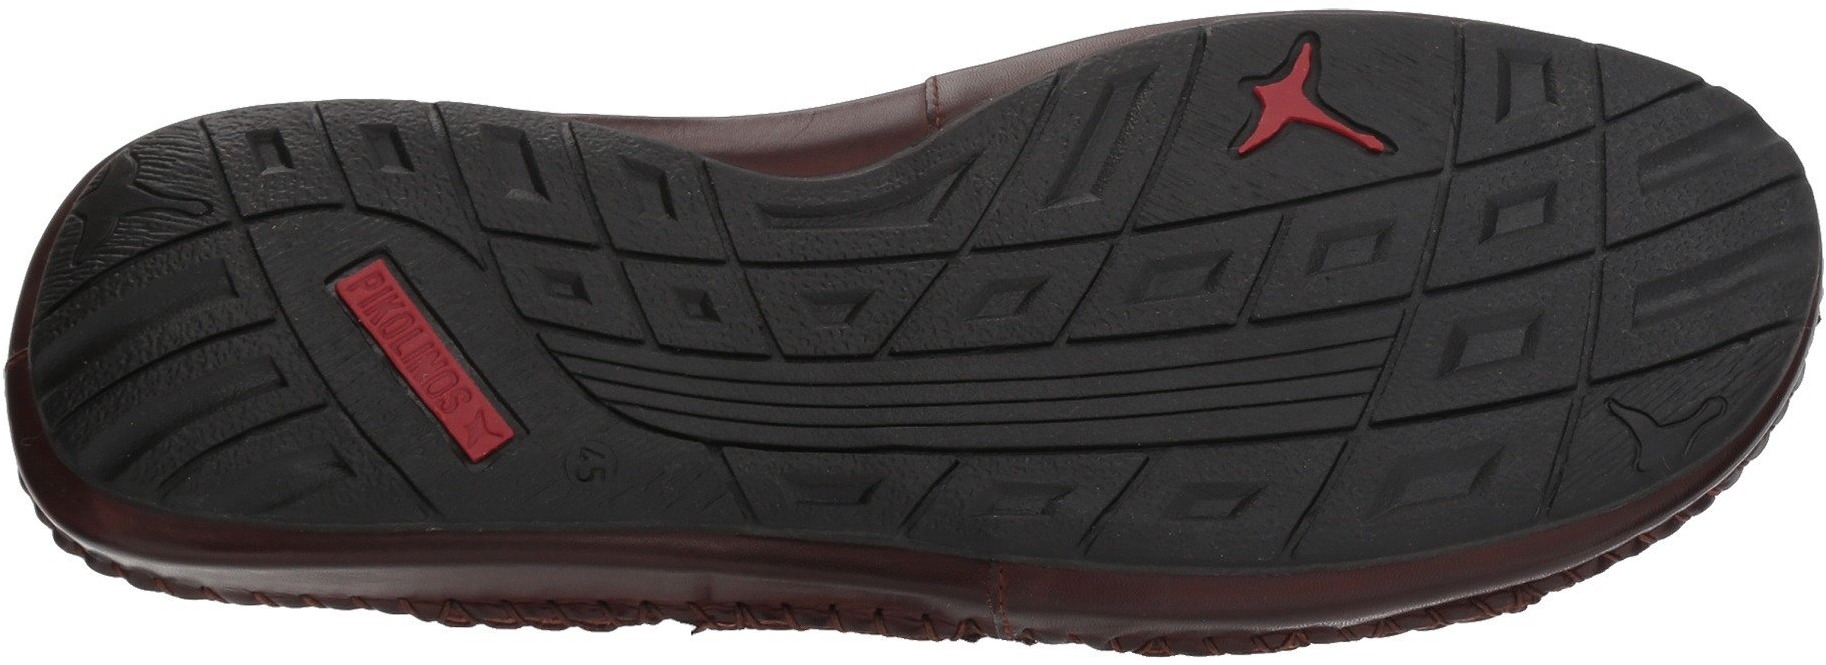quad: (1450, 160, 1680, 379), (916, 146, 1120, 365), (477, 132, 691, 340), (1140, 426, 1333, 578)
text: (402, 368, 516, 468), (351, 263, 448, 352), (551, 429, 637, 514)
